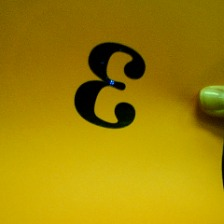orange3: (70, 39, 153, 138)
